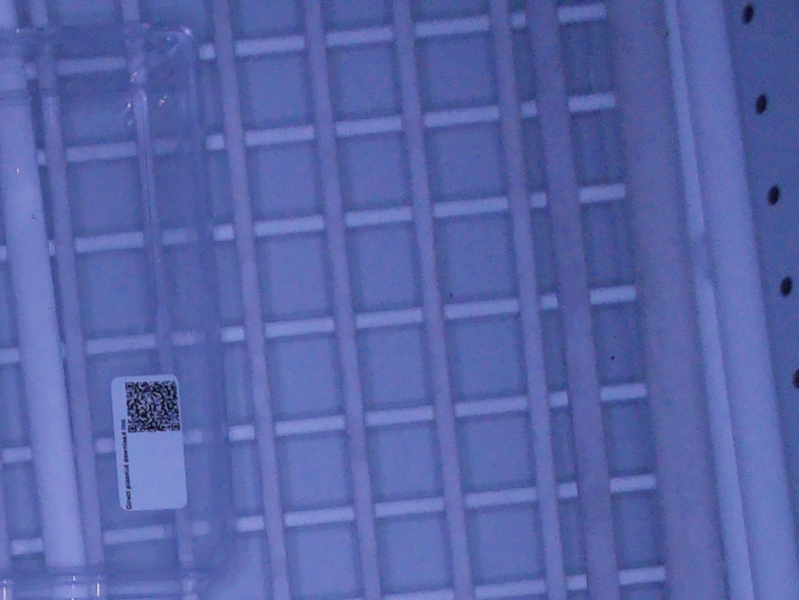plate: (1, 15, 231, 600)
